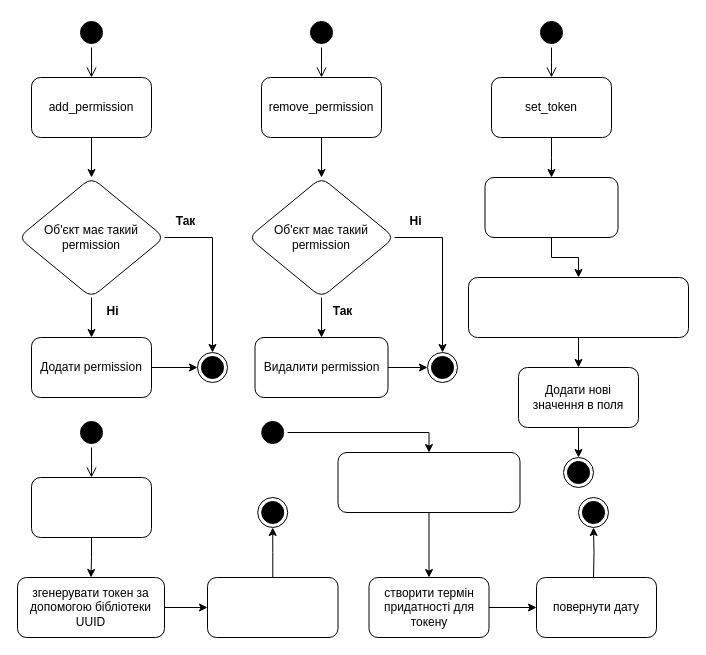
The diagram is 706 pixels wide and 655 high, and some of its shapes have lost their labels. The shapes that lost their labels are listed below. From the top down, each one's box as (x1, y1, x2, y2) in pixels, then its label:
(484, 176, 618, 238): Створити токен за допомогою функції create_token
(468, 276, 688, 338): Створити токен за допомогою функції create_token_expiration_date
(337, 452, 520, 512): create_token_expiration_date
(30, 476, 152, 538): create_token
(206, 576, 338, 638): Повернути згенерований токен
